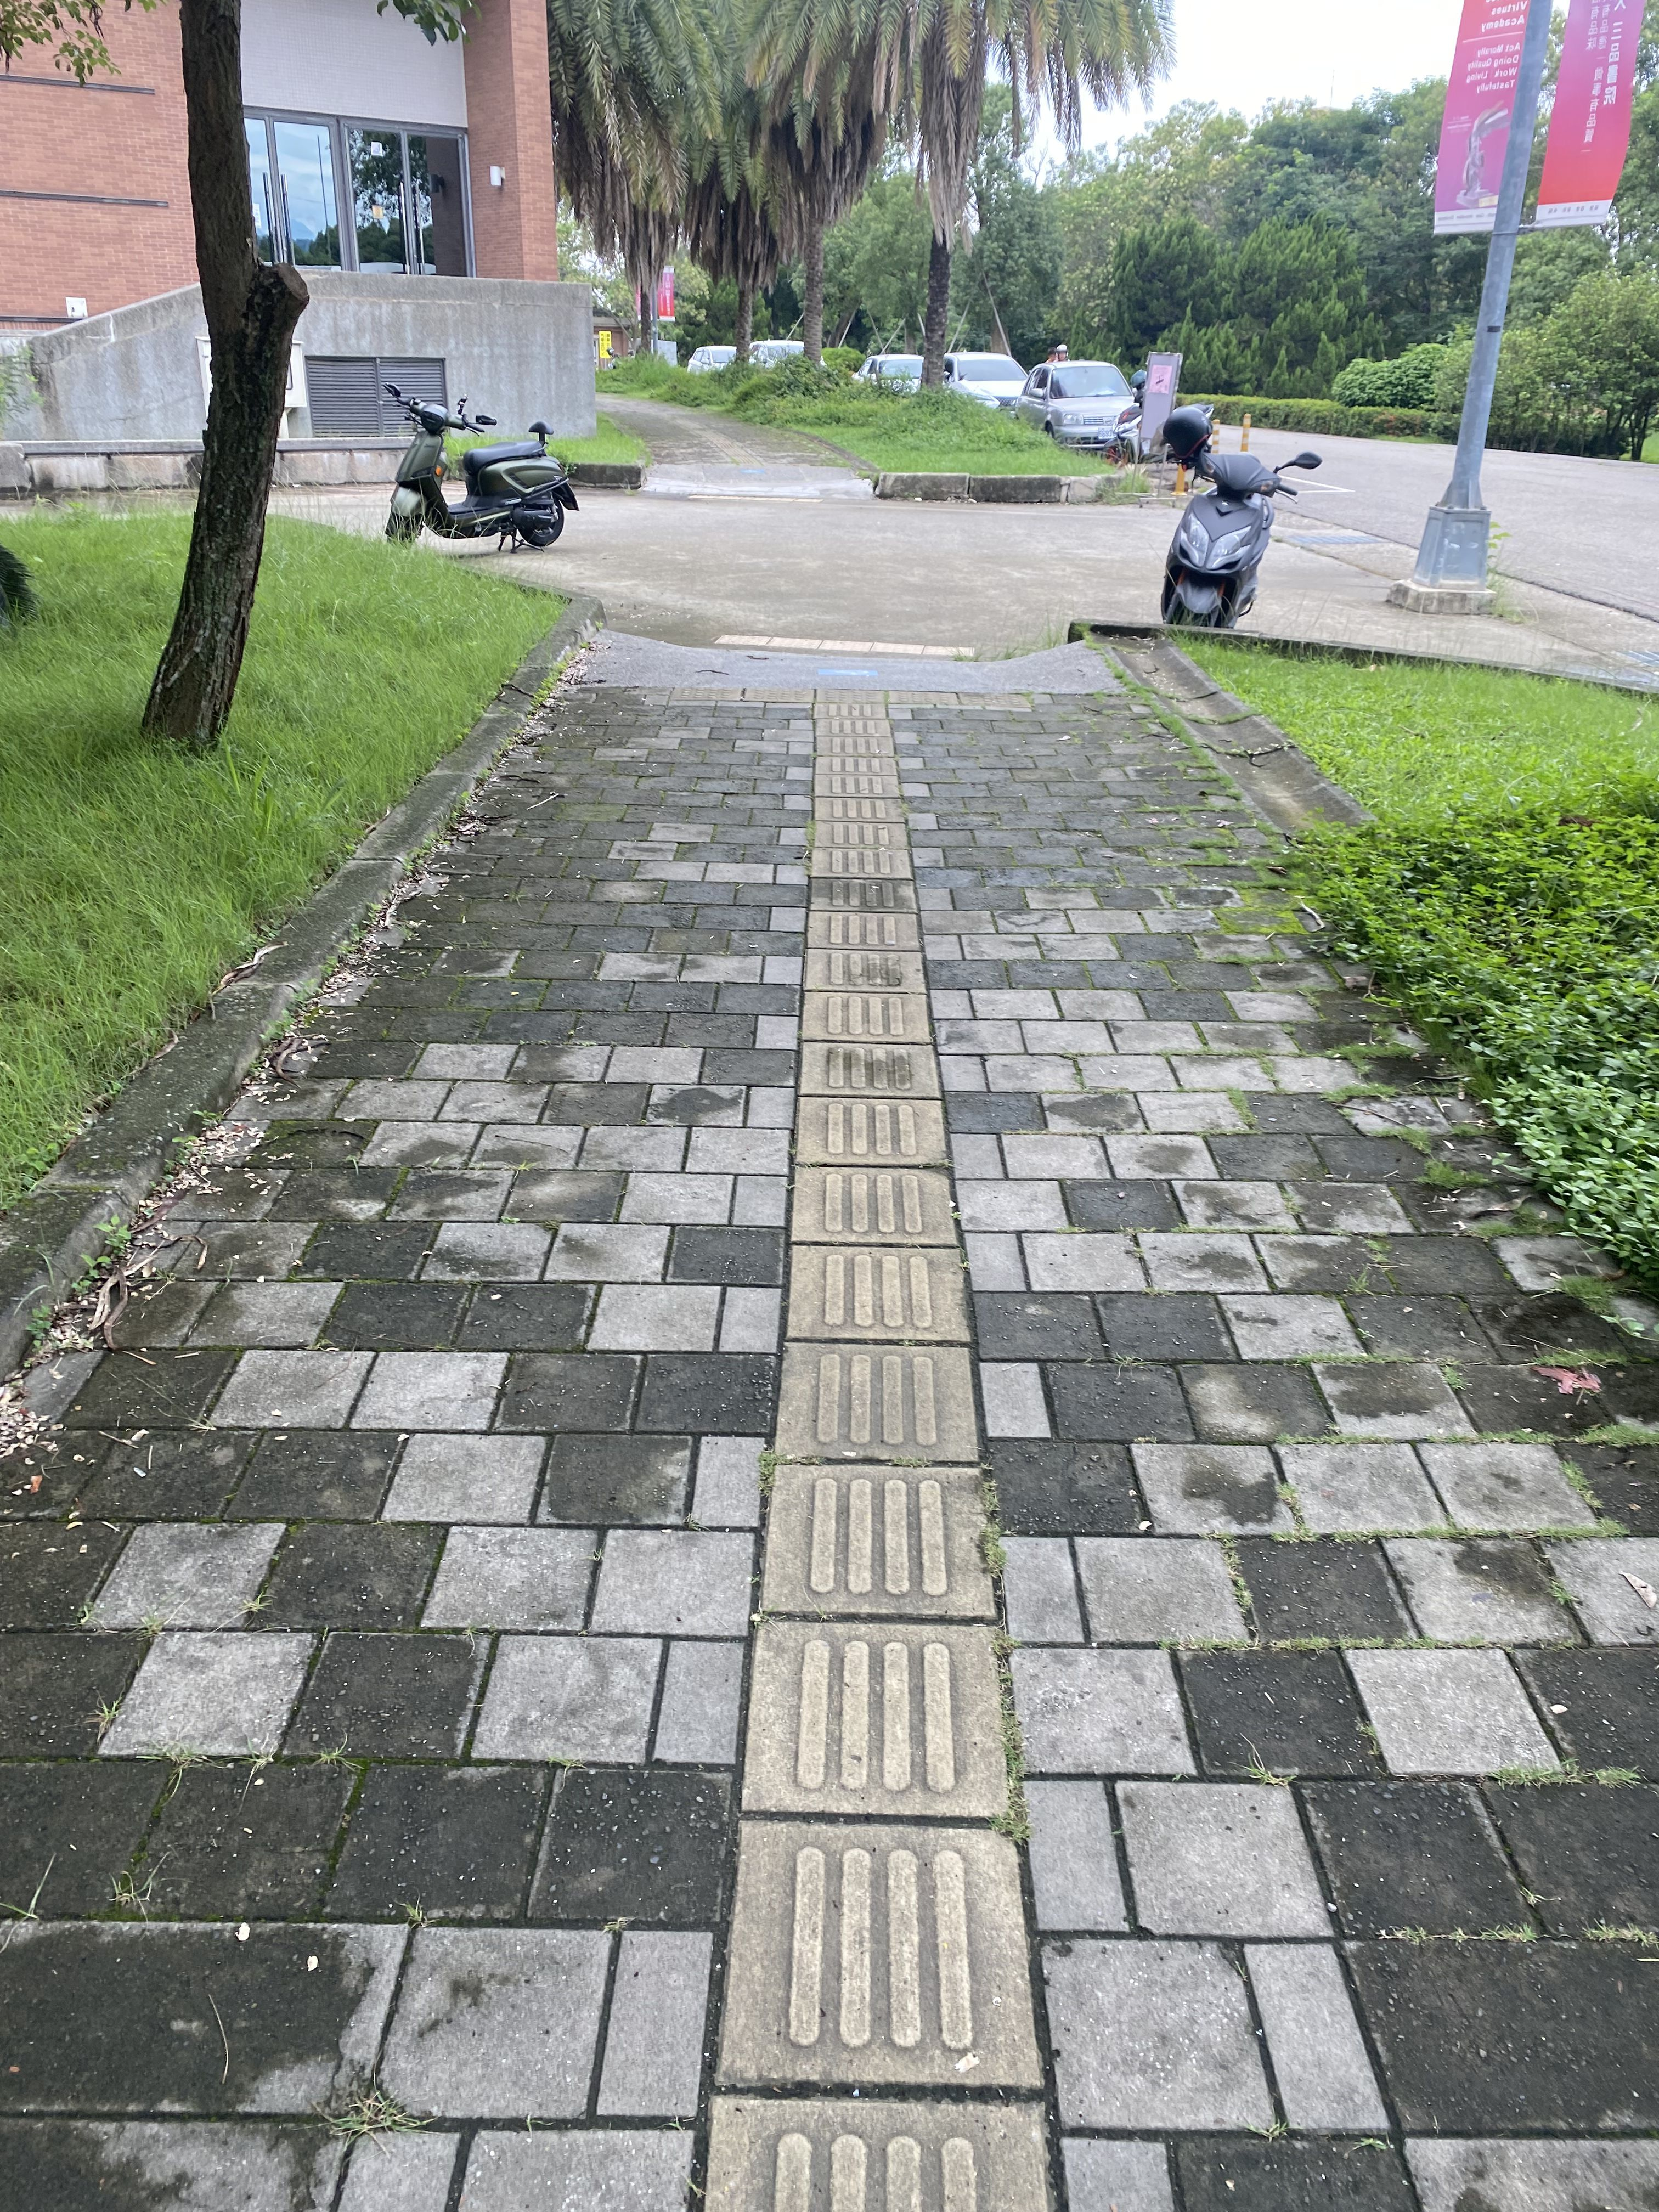0: (580, 359, 892, 502)
sidewalk: (7, 622, 1659, 2212)
